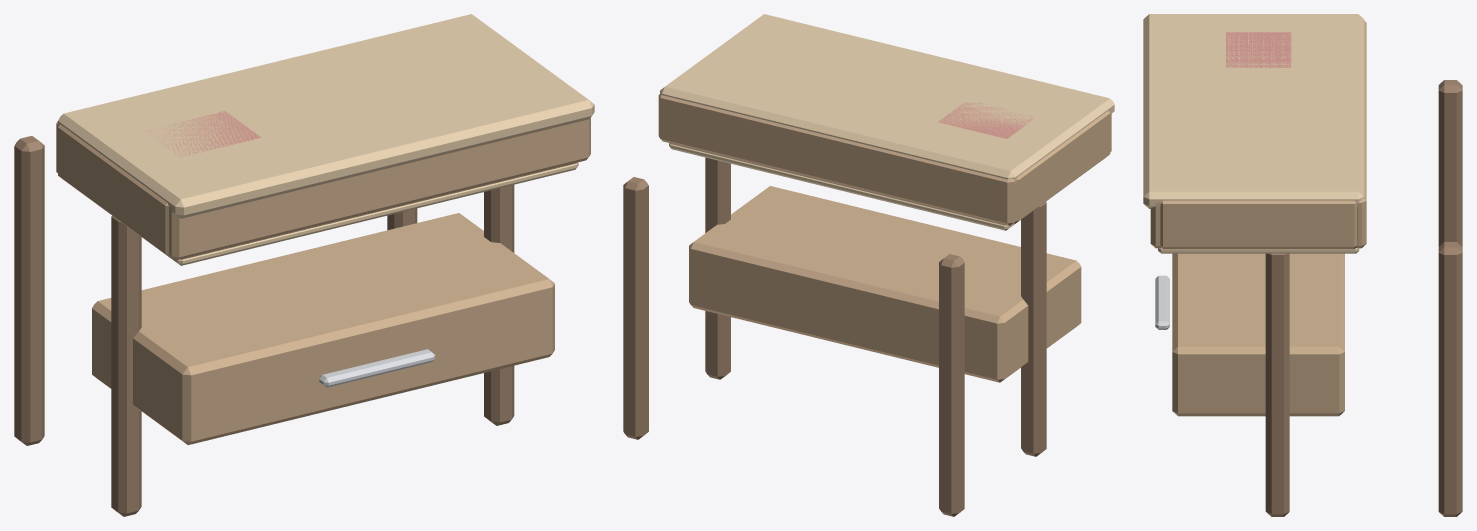
The model's file is FoldOutVanityDesk.glb.
3 renders of one model, left to right at view 1: azimuth 30°, elevation 25°; view 2: azimuth 150°, elevation 25°; view 3: azimuth 270°, elevation 25°, orthographic. The views are drawn at different scales.
Visible parts, largest first — view 1: FoldOutVanityDesk_Body, FoldOutVanityDesk_Top; view 2: FoldOutVanityDesk_Body, FoldOutVanityDesk_Top; view 3: FoldOutVanityDesk_Body, FoldOutVanityDesk_Top.
Part boxes in pixels (x1=…): FoldOutVanityDesk_Body: x1=14, y1=111, x2=590, y2=516; FoldOutVanityDesk_Top: x1=58, y1=14, x2=594, y2=218; FoldOutVanityDesk_Body: x1=623, y1=93, x2=1111, y2=516; FoldOutVanityDesk_Top: x1=660, y1=14, x2=1114, y2=183; FoldOutVanityDesk_Body: x1=1150, y1=21, x2=1462, y2=516; FoldOutVanityDesk_Top: x1=1143, y1=14, x2=1364, y2=208.
Bounding box in the file's own units: 0.91 × 0.76 × 0.665.
